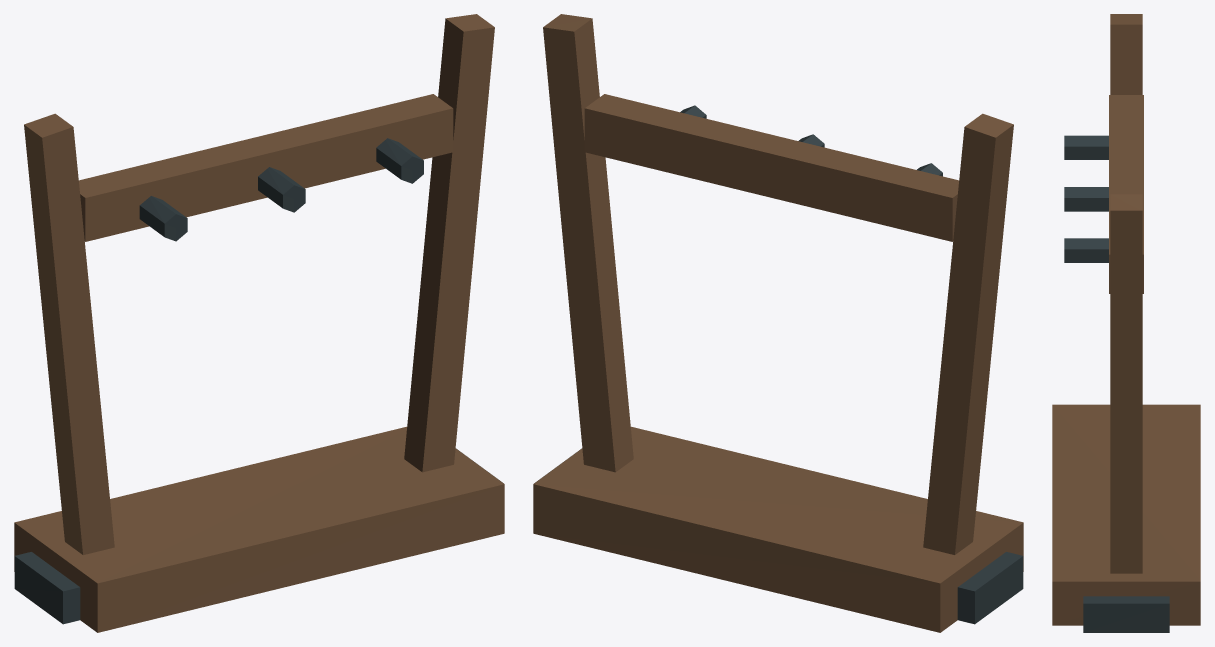
Rendered from Tool-Rack.glb.
The picture shows the model from 3 angles, left to right: view 1: azimuth 30°, elevation 25°; view 2: azimuth 150°, elevation 25°; view 3: azimuth 270°, elevation 25°; orthographic projection. The views are drawn at different scales.
Visible parts, largest first — view 1: wind-pump-static-tool-rack-weathered-timber, wind-pump-static-tool-rack-dark-brackets; view 2: wind-pump-static-tool-rack-weathered-timber, wind-pump-static-tool-rack-dark-brackets; view 3: wind-pump-static-tool-rack-weathered-timber, wind-pump-static-tool-rack-dark-brackets.
Part boxes in pixels (x1=…): wind-pump-static-tool-rack-weathered-timber: x1=14, y1=14, x2=504, y2=632; wind-pump-static-tool-rack-dark-brackets: x1=14, y1=138, x2=502, y2=624; wind-pump-static-tool-rack-weathered-timber: x1=533, y1=14, x2=1023, y2=632; wind-pump-static-tool-rack-dark-brackets: x1=535, y1=105, x2=1023, y2=624; wind-pump-static-tool-rack-weathered-timber: x1=1052, y1=14, x2=1200, y2=625; wind-pump-static-tool-rack-dark-brackets: x1=1064, y1=135, x2=1169, y2=632.
Bounding box in the file's own units: 1.72 × 1.75 × 0.55.
